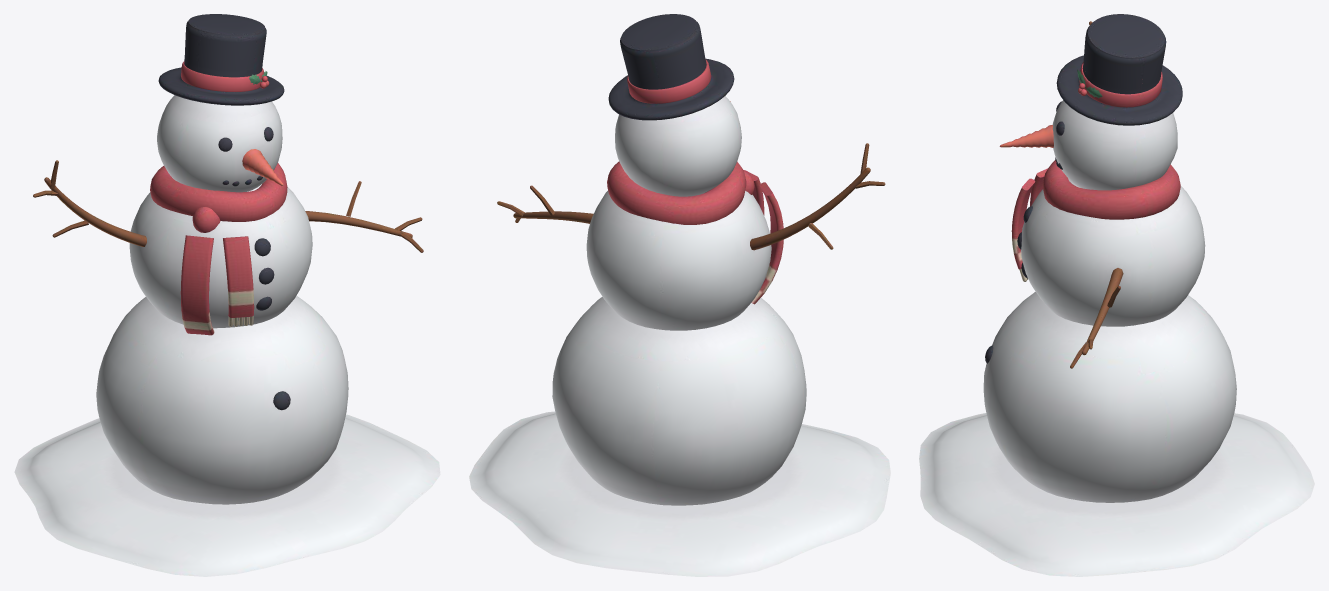
File: muneco_nieve.glb
The picture shows the model from 3 angles, left to right: view 1: azimuth 30°, elevation 25°; view 2: azimuth 150°, elevation 25°; view 3: azimuth 270°, elevation 25°; orthographic projection.
Parts seen in each view (by area): view 1: snowman_body; view 2: snowman_body; view 3: snowman_body.
Boxes of the visible parts, bbox=[...] form: snowman_body: bbox=[14, 14, 440, 576]; snowman_body: bbox=[469, 14, 890, 576]; snowman_body: bbox=[919, 14, 1314, 576].
Size of the model in its own units: 1.41 by 1.61 by 1.25.
Materials: 1 (1 with a texture image).
